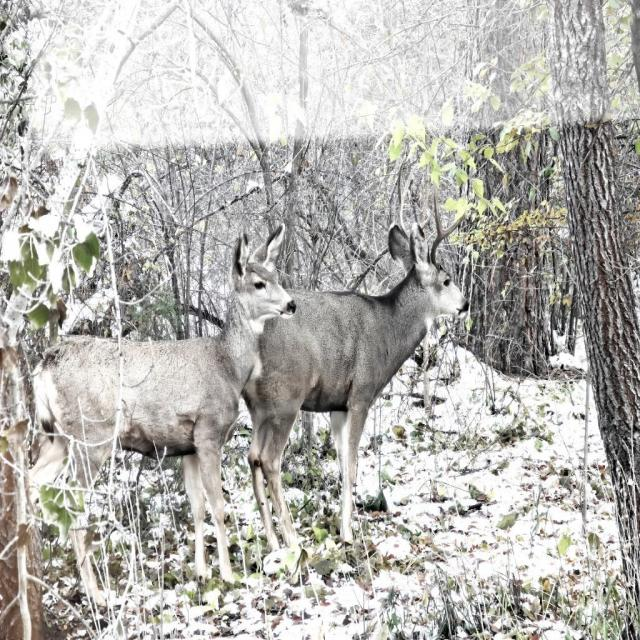Deer: (30, 222, 298, 588), (242, 164, 470, 550)
